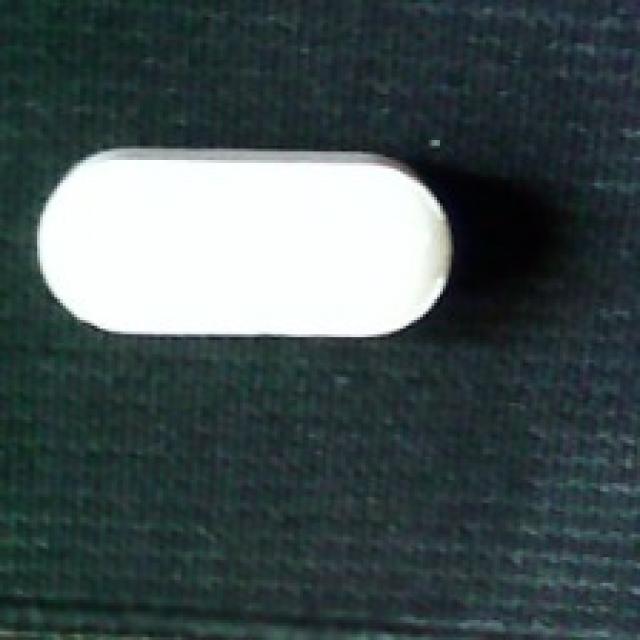no-defect: (31, 146, 460, 348)
